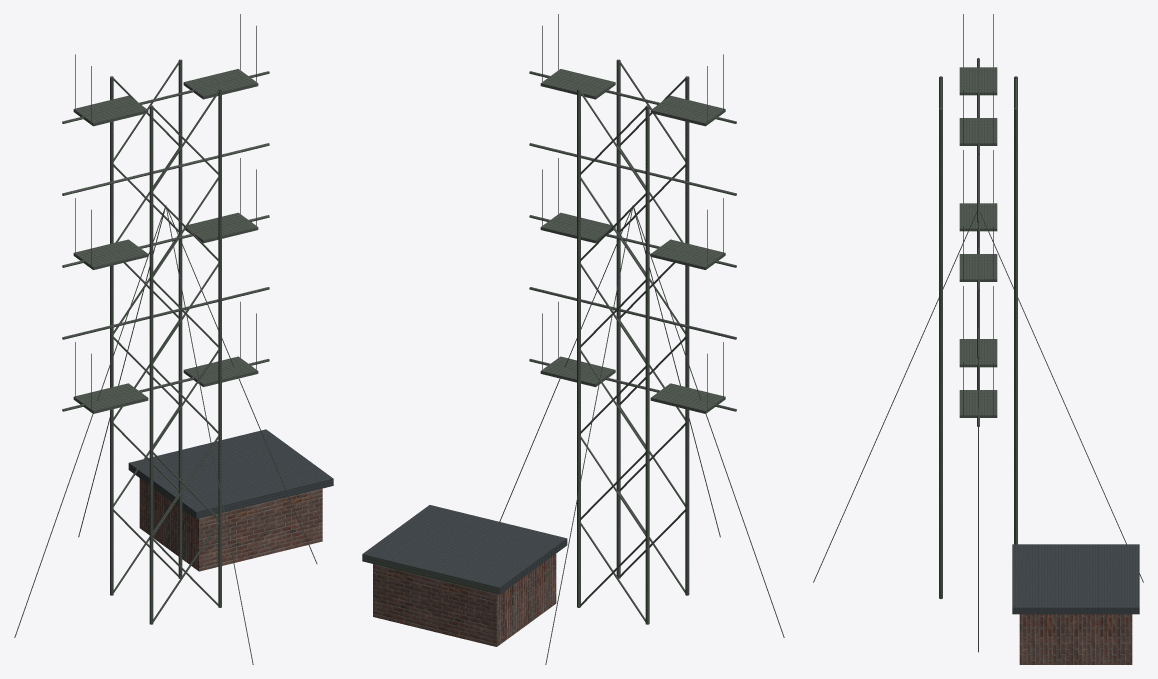
The model's file is damaged1.gltf.
The picture shows the model from 3 angles, left to right: view 1: azimuth 30°, elevation 25°; view 2: azimuth 150°, elevation 25°; view 3: azimuth 270°, elevation 25°; orthographic projection. The views are drawn at different scales.
Visible parts, largest first — view 1: britainradar_damaged1; view 2: britainradar_damaged1; view 3: britainradar_damaged1.
Part boxes in pixels (x1,y1,x2,y2): britainradar_damaged1: [14, 14, 333, 664]; britainradar_damaged1: [362, 14, 784, 664]; britainradar_damaged1: [813, 14, 1143, 664].
Bounding box in the file's own units: 49.05 × 78.08 × 44.1.
4 materials, 4 textured.
